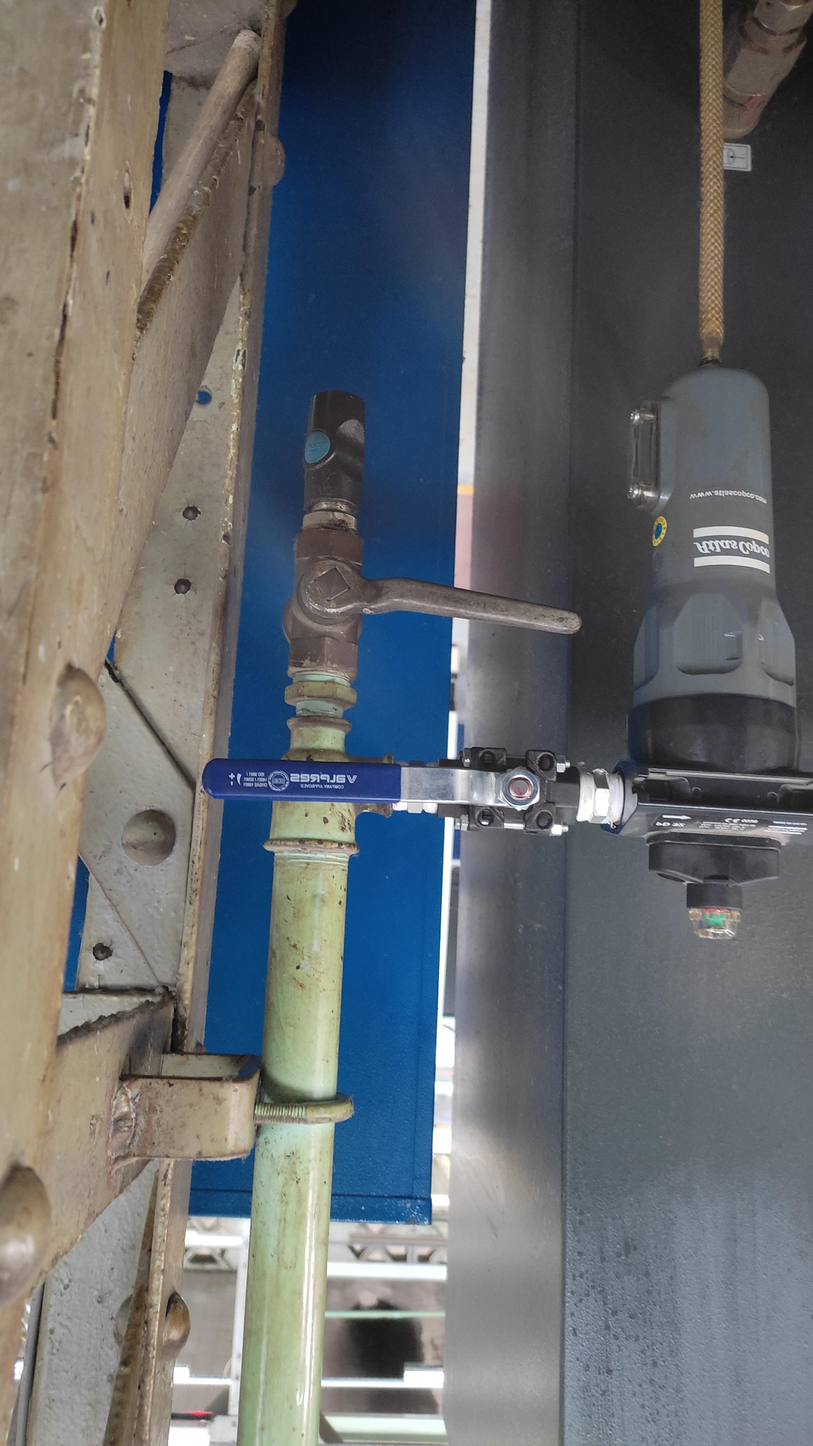closed valve: (278, 519, 583, 679)
opened valve: (196, 739, 582, 839)
